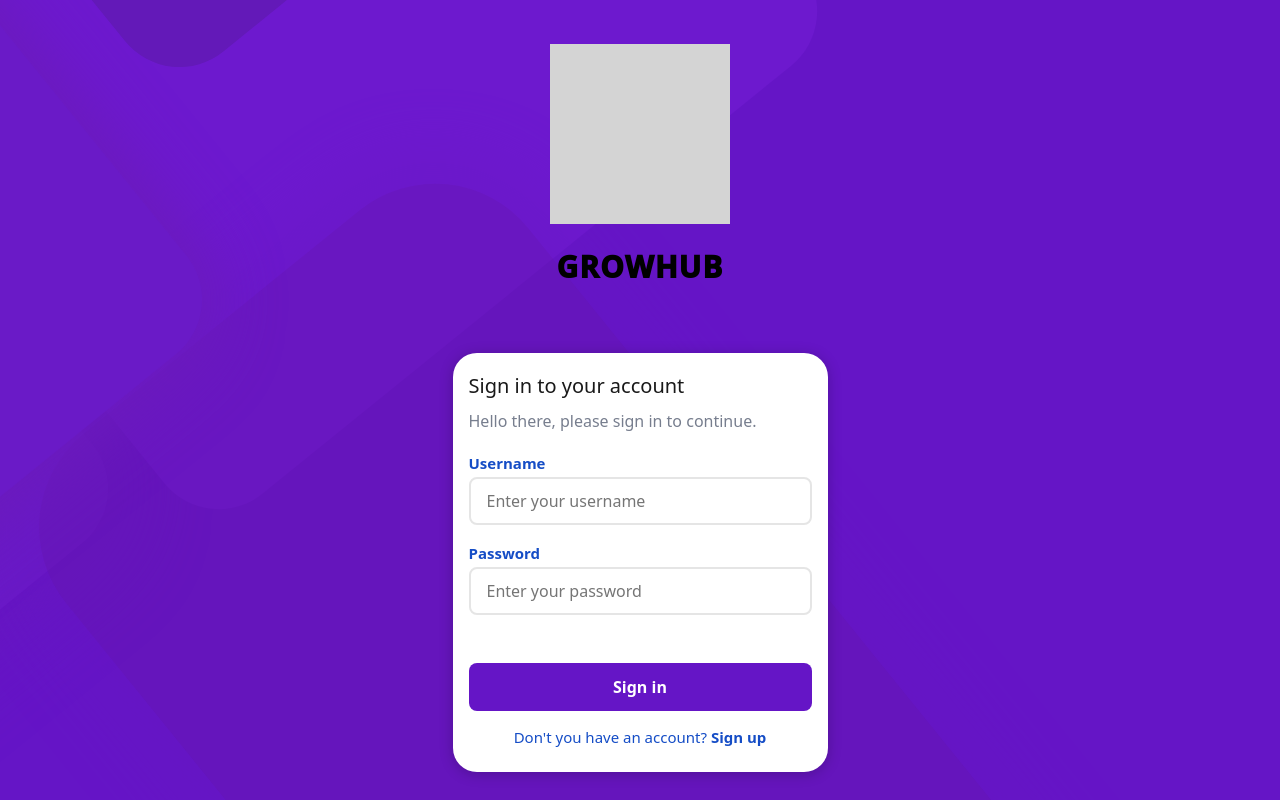
Test: LoginPage › shows validation error for short password
Type "testuser" into the field labelled "Username" at (640,501), box [468,477,812,525]
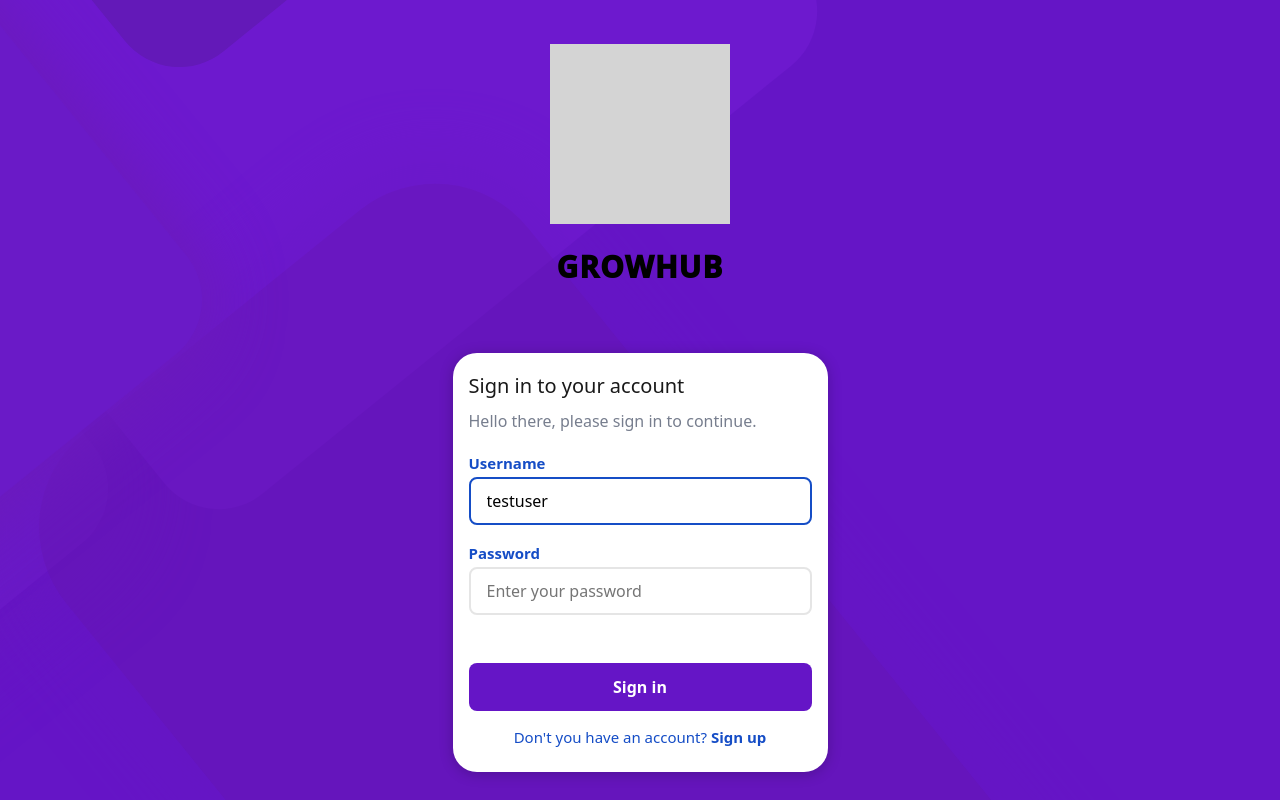
Type "ab" into the password field labelled "Password" at (640,591), box [468,567,812,615]
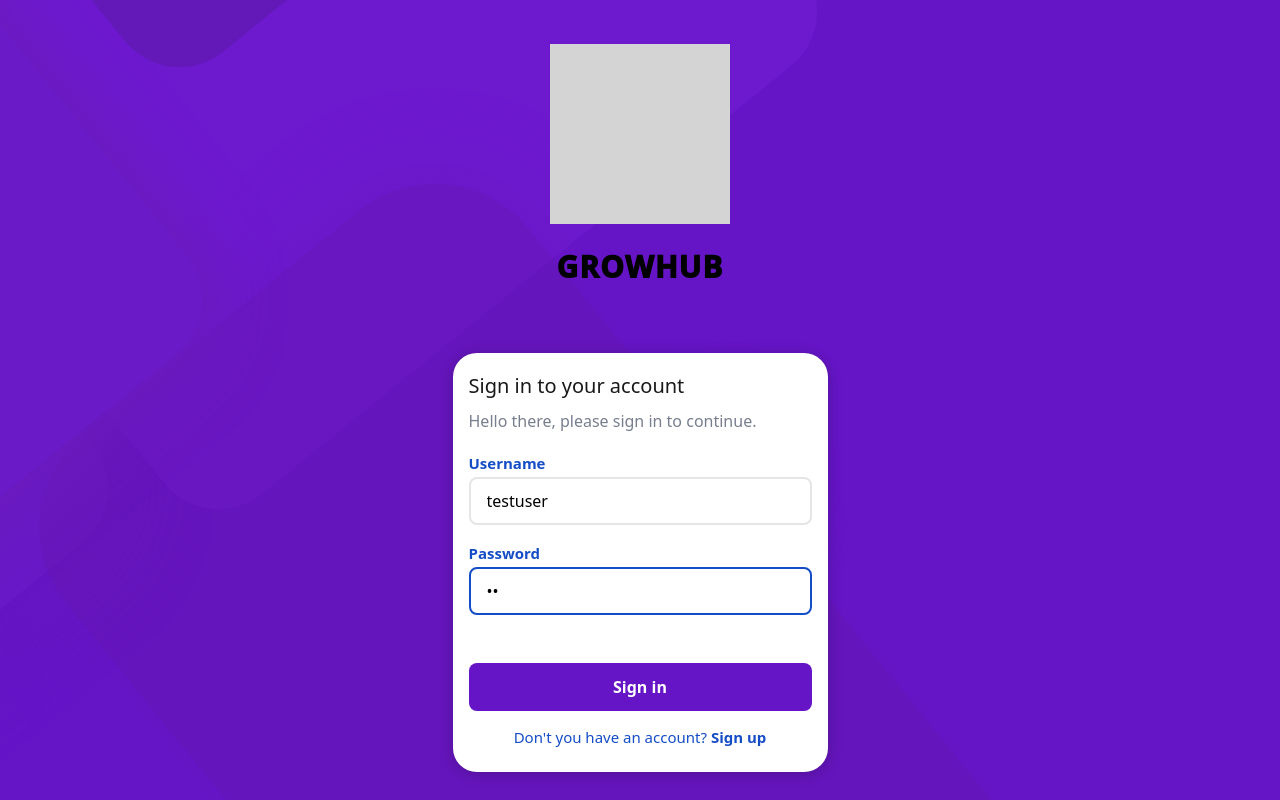
Click the button "Sign in" at (640,687), box [468,663,812,711]
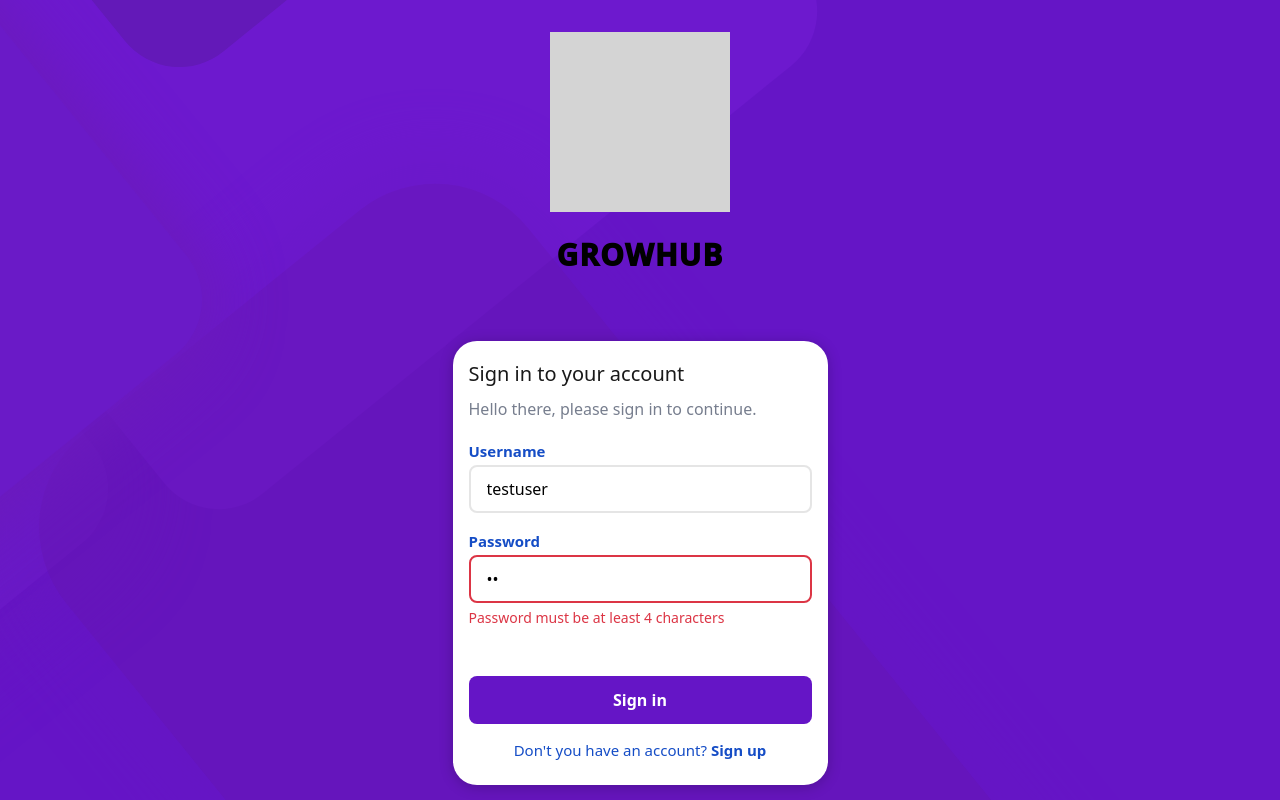
expect the text "Password must be at least 4 characters" is shown: met, box [468,608,724,626]
